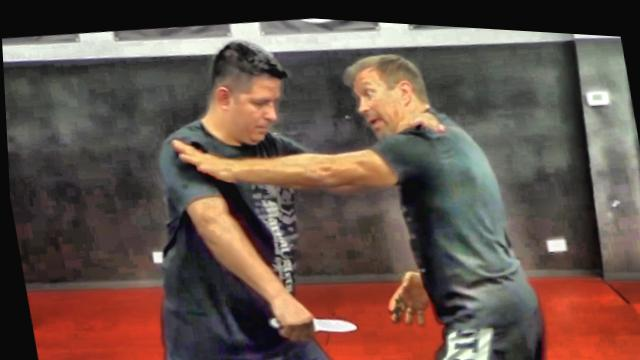knife: (260, 298, 360, 343)
